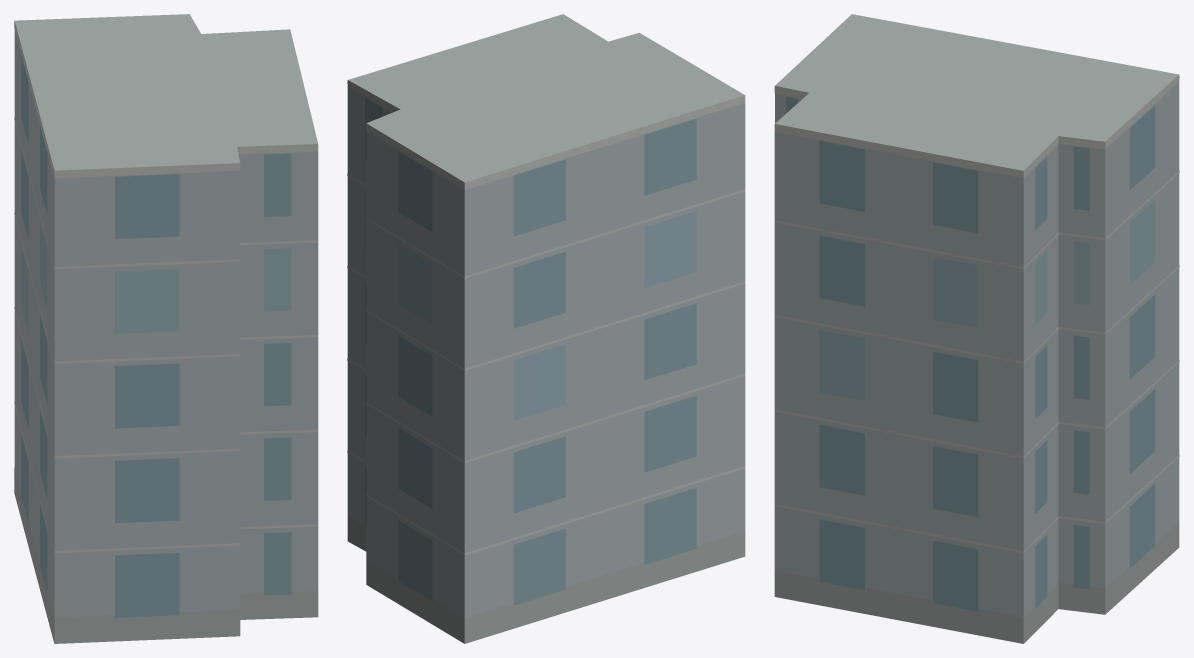
The model's file is survey-upis-32534806.glb.
3 renders of one model, left to right at view 1: azimuth 30°, elevation 25°; view 2: azimuth 150°, elevation 25°; view 3: azimuth 270°, elevation 25°, orthographic. The views are drawn at different scales.
Parts seen in each view (by area): view 1: survey-upis-32534806.tmp; view 2: survey-upis-32534806.tmp; view 3: survey-upis-32534806.tmp.
Part boxes in pixels (<box>): survey-upis-32534806.tmp: <box>14,14,318,643</box>; survey-upis-32534806.tmp: <box>347,14,745,643</box>; survey-upis-32534806.tmp: <box>774,14,1179,643</box>.
Bounding box in the file's own units: 10.7 × 15 × 11.65.
